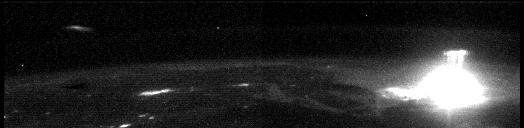positive: (441, 47, 470, 67)
